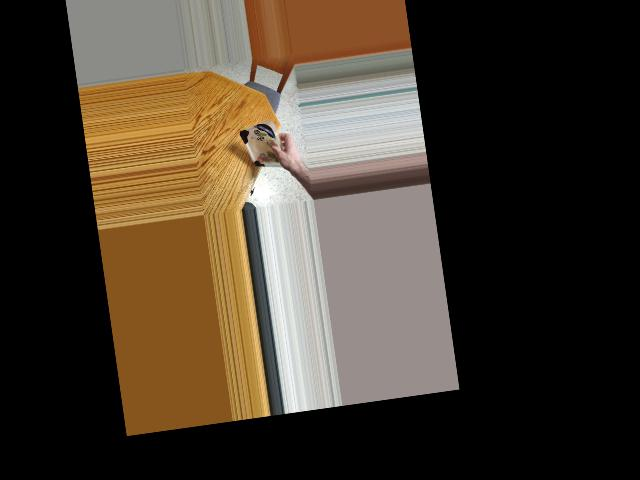cheese: (242, 117, 284, 173)
